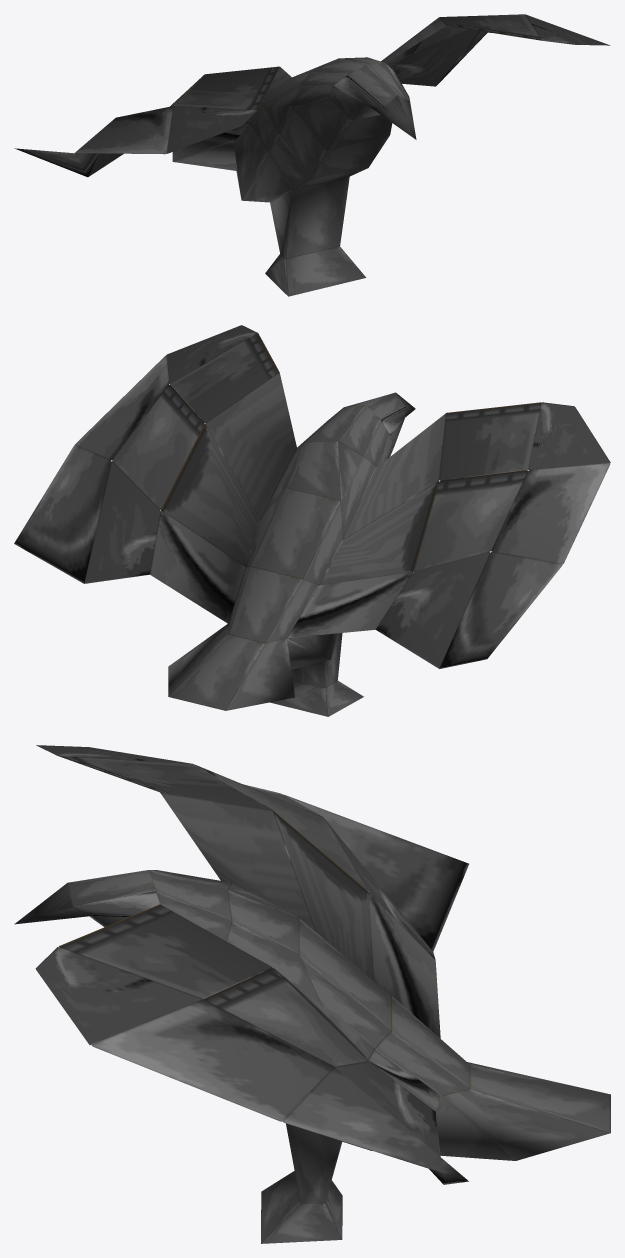
3 renders of one model, top to bottom at view 1: azimuth 30°, elevation 25°; view 2: azimuth 150°, elevation 25°; view 3: azimuth 270°, elevation 25°, orthographic. The views are drawn at different scales.
Visible parts, largest first — view 1: T1L4M001_19; view 2: T1L4M001_19; view 3: T1L4M001_19.
Boxes of the visible parts, x1=… form: T1L4M001_19: x1=14, y1=14, x2=610, y2=296; T1L4M001_19: x1=14, y1=325, x2=610, y2=716; T1L4M001_19: x1=14, y1=745, x2=610, y2=1243.
Bounding box in the file's own units: 1.6 × 0.8389 × 1.23.
